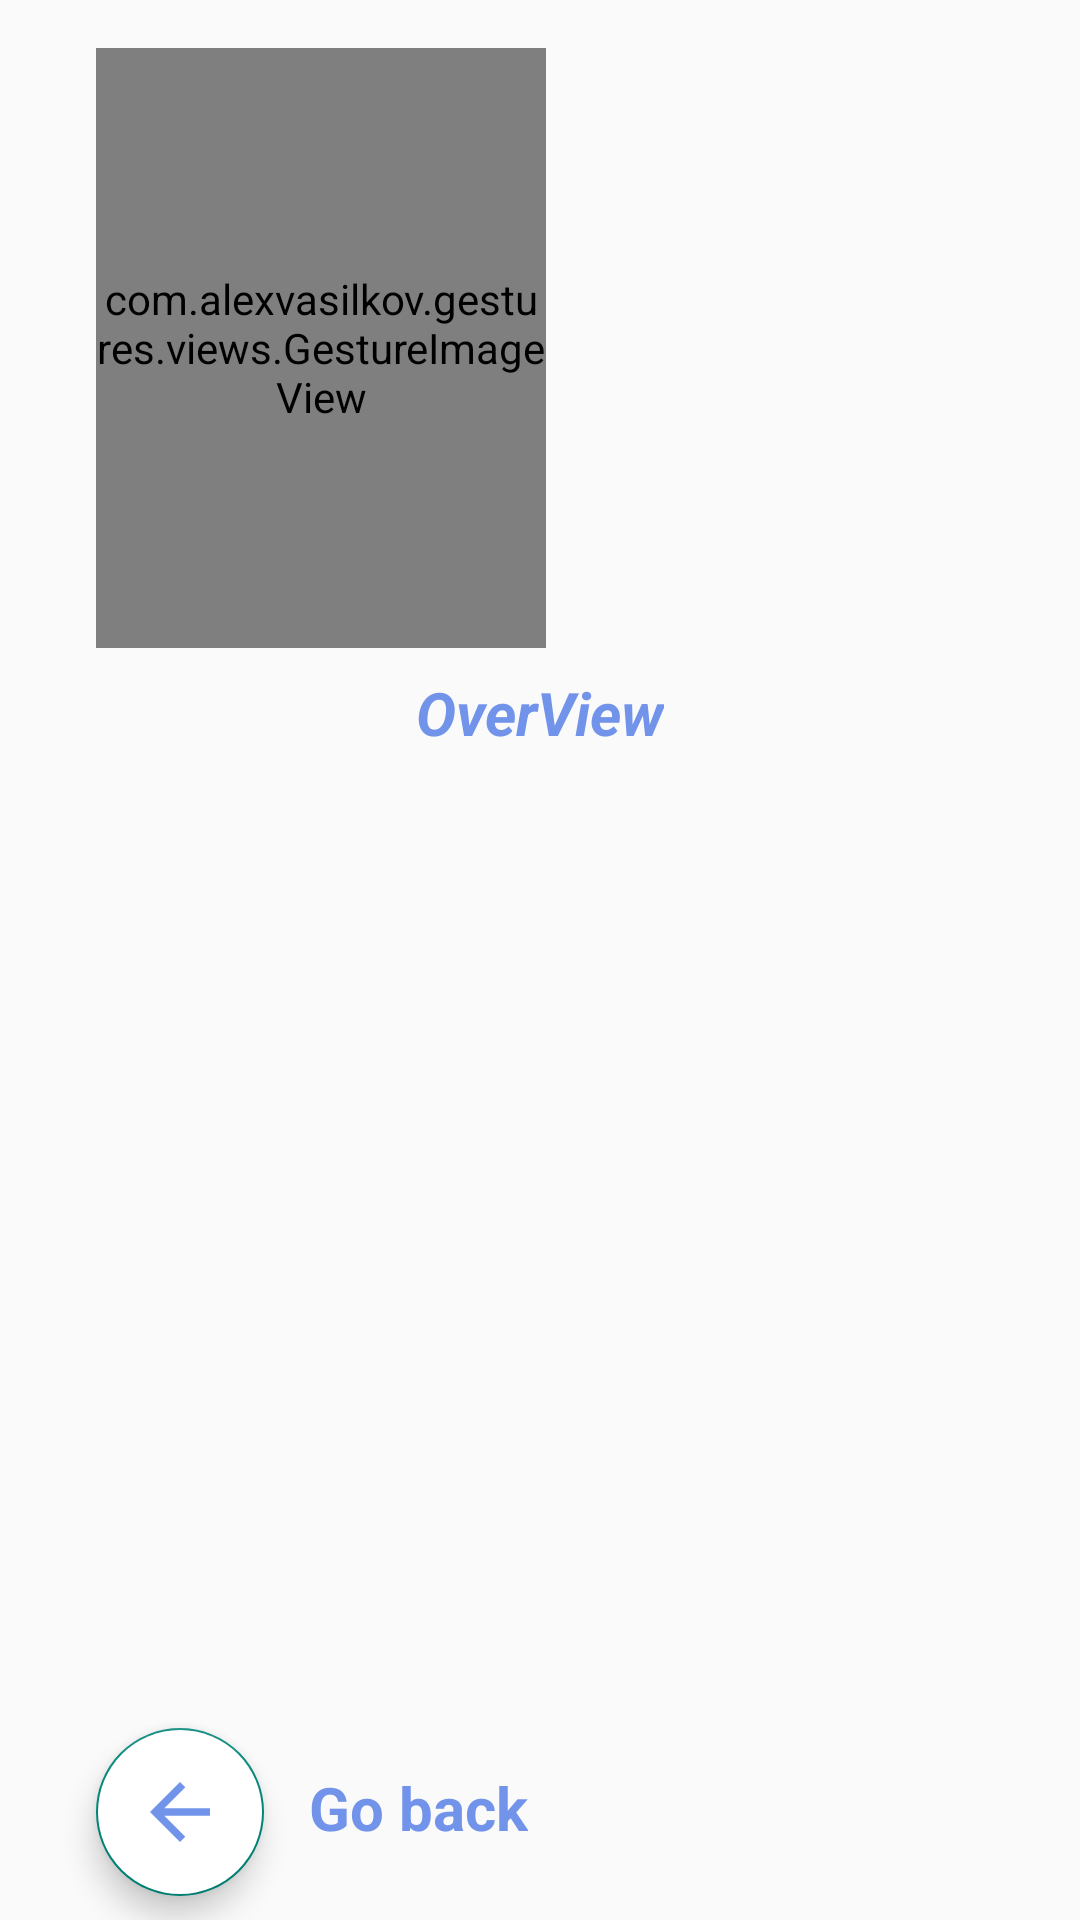

Named icons in this screenshot (1080px x 1920px) and their centers, (x=x, y=y):
arrow back: (x=180, y=1812)
